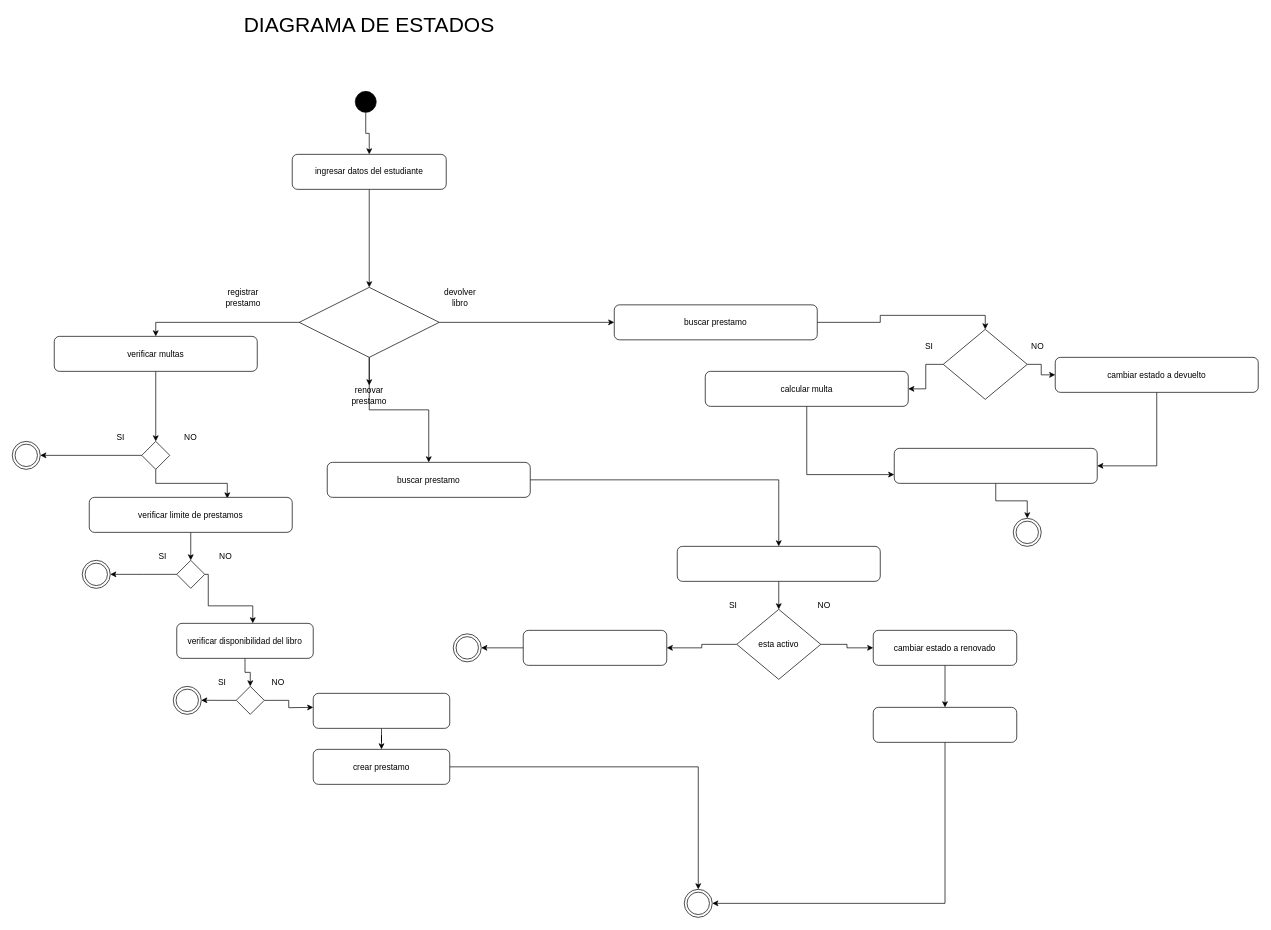
The diagram is 1271 pixels wide and 930 high, and some of its shapes have lost their labels. The shapes that lost their labels are listed below. From the top down, each one's centre as x and y in pixels, then its label:
At point 985,364: "esta vencido".
At point 995,465: "cambiar estado del libro a disponible".
At point 778,563: "verificar estado del prestamo".
At point 595,647: "renovar fecha de devolucion".
At point 381,710: "calcular fecha".
At point 945,724: "actualizar fecha de devolucion".
